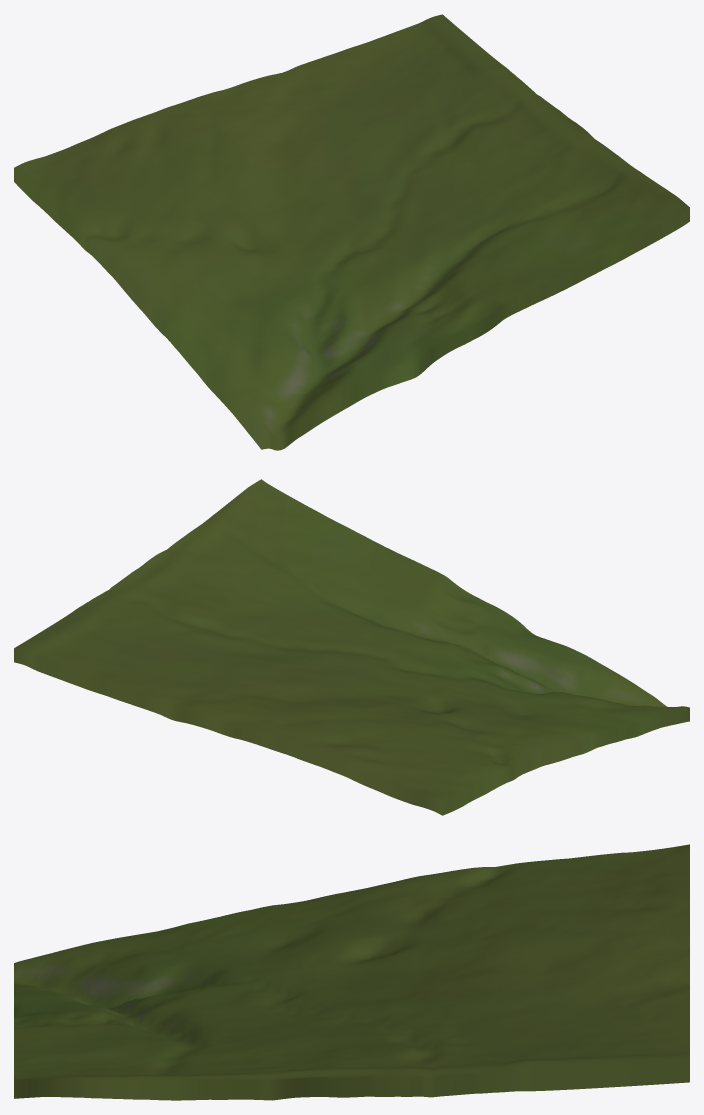
The model's file is terrain_-1_0.glb.
3 renders of one model, top to bottom at view 1: azimuth 30°, elevation 25°; view 2: azimuth 150°, elevation 25°; view 3: azimuth 270°, elevation 25°, orthographic. The views are drawn at different scales.
Visible parts, largest first — view 1: terrain_-1_0; view 2: terrain_-1_0; view 3: terrain_-1_0.
Boxes of the visible parts, left/top/right/bottom form: terrain_-1_0: left=14, top=14, right=689, bottom=450; terrain_-1_0: left=14, top=479, right=689, bottom=815; terrain_-1_0: left=14, top=844, right=689, bottom=1100.
Size of the model in its own units: 256 by 88.45 by 256.
